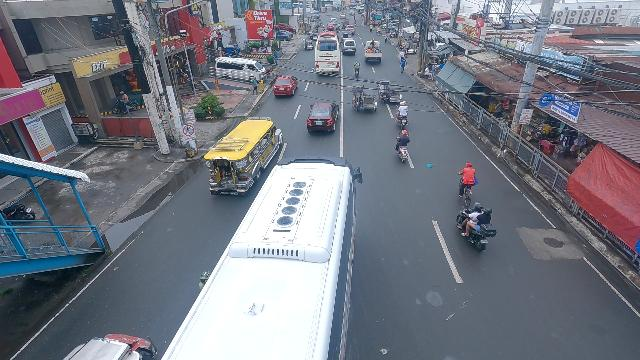bus: (162, 157, 355, 360), (313, 37, 341, 76)
car: (306, 101, 340, 133), (272, 74, 298, 97), (345, 25, 355, 33), (327, 22, 335, 31)
jeepney: (204, 116, 283, 197), (340, 31, 352, 41)
motorcycle: (455, 201, 495, 252), (396, 128, 410, 163), (396, 101, 409, 129), (354, 59, 360, 77), (336, 25, 339, 33), (338, 23, 341, 30), (354, 20, 357, 27)
truck: (363, 40, 383, 65)
van: (213, 57, 261, 84), (341, 38, 357, 55)
